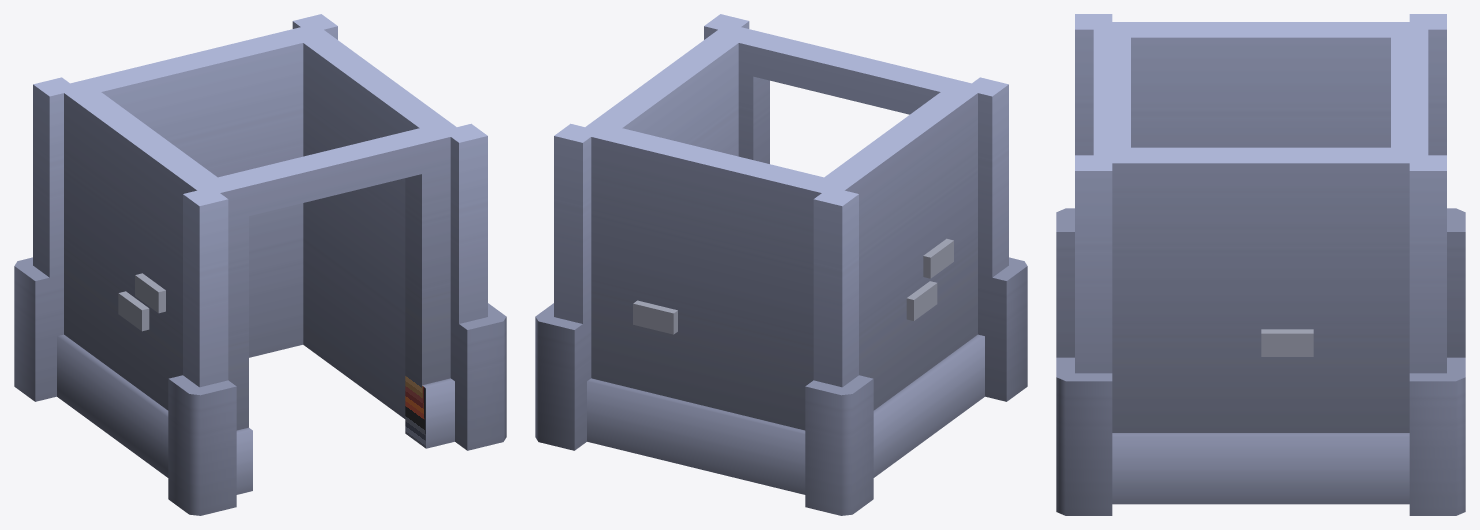
The model's file is crypt-small.glb.
3 views of the same model, side by side, from view 1: azimuth 30°, elevation 25°; view 2: azimuth 150°, elevation 25°; view 3: azimuth 270°, elevation 25° (orthographic). The views are drawn at different scales.
Visible parts, largest first — view 1: Asset3DLoader.sceneRoot; view 2: Asset3DLoader.sceneRoot; view 3: Asset3DLoader.sceneRoot.
Boxes of the visible parts, bbox=[...] form: Asset3DLoader.sceneRoot: bbox=[14, 14, 506, 515]; Asset3DLoader.sceneRoot: bbox=[535, 14, 1027, 515]; Asset3DLoader.sceneRoot: bbox=[1056, 14, 1465, 515].
Bounding box in the file's own units: 1.1 × 1 × 1.1.
1 material, 1 textured.
